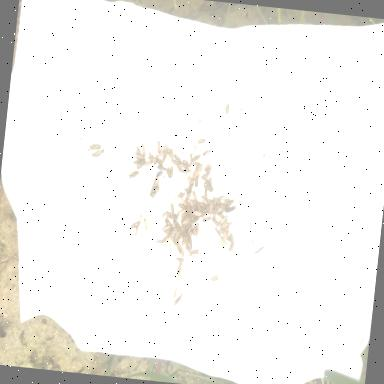pbw: (156, 138, 166, 154), (129, 220, 141, 232), (224, 204, 236, 215), (162, 236, 172, 248), (128, 170, 140, 180), (200, 147, 212, 157), (175, 201, 188, 210), (219, 236, 227, 250), (152, 186, 160, 200), (186, 182, 194, 196), (131, 158, 142, 168), (198, 194, 209, 204), (160, 234, 170, 245), (186, 174, 195, 186), (228, 230, 236, 243), (186, 223, 194, 236), (186, 246, 194, 259), (159, 210, 169, 220), (172, 220, 182, 230), (222, 232, 232, 242), (200, 171, 210, 181), (177, 231, 187, 241), (132, 145, 142, 155), (219, 214, 228, 225), (181, 159, 192, 168), (201, 215, 212, 224), (196, 163, 203, 177), (142, 218, 149, 232), (191, 190, 199, 202), (159, 144, 167, 156), (173, 296, 181, 308), (171, 227, 179, 239), (178, 244, 186, 256), (174, 242, 182, 254), (156, 164, 168, 172), (174, 256, 186, 264), (140, 143, 147, 156), (173, 230, 180, 243), (164, 219, 174, 228), (226, 197, 235, 207), (182, 216, 190, 227), (182, 212, 190, 223), (214, 226, 222, 237), (202, 188, 209, 200), (169, 164, 175, 178), (169, 202, 176, 214), (190, 203, 199, 212), (176, 208, 186, 216), (190, 198, 198, 208), (192, 154, 202, 162), (197, 138, 207, 146), (212, 196, 222, 204), (176, 192, 186, 200), (162, 224, 170, 234), (162, 150, 168, 163), (166, 166, 172, 179), (169, 147, 175, 160), (133, 154, 146, 160), (169, 213, 180, 220), (219, 228, 230, 235), (188, 236, 194, 248), (184, 240, 190, 252), (229, 240, 235, 252), (176, 262, 182, 274), (208, 176, 214, 188), (137, 160, 146, 168), (211, 218, 220, 226), (212, 208, 218, 220), (205, 161, 213, 170), (181, 234, 187, 246), (134, 226, 140, 238), (176, 268, 182, 280), (174, 154, 182, 163), (172, 286, 178, 298), (225, 101, 230, 115), (193, 167, 198, 181), (180, 167, 190, 174), (195, 222, 200, 236), (154, 239, 164, 246), (185, 191, 192, 201), (166, 147, 172, 158), (192, 210, 203, 216), (208, 202, 213, 215), (192, 143, 197, 156), (210, 274, 218, 282), (222, 197, 230, 205), (192, 216, 200, 224), (145, 160, 154, 167), (136, 214, 143, 223), (216, 212, 225, 219), (188, 154, 194, 164), (194, 176, 199, 188), (220, 222, 228, 229), (219, 207, 227, 214), (171, 159, 179, 166), (204, 166, 212, 173), (180, 199, 188, 206), (192, 248, 200, 255), (184, 223, 190, 232), (214, 203, 220, 212), (192, 225, 196, 238), (200, 211, 207, 218), (180, 292, 184, 304), (154, 154, 158, 166), (219, 204, 227, 210), (198, 201, 206, 207), (158, 159, 164, 167), (147, 152, 155, 158), (146, 156, 154, 162), (206, 203, 210, 214), (188, 229, 194, 236), (189, 205, 193, 214), (212, 201, 217, 208), (200, 208, 208, 212)
